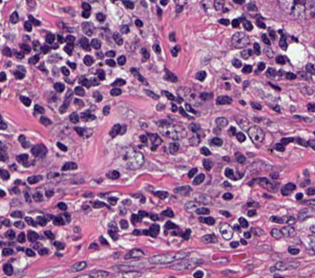nucleus: (160, 121, 185, 139), (248, 126, 264, 142), (232, 32, 249, 47), (128, 152, 143, 168), (219, 223, 233, 240), (256, 178, 275, 190), (131, 68, 146, 83), (148, 134, 161, 150), (31, 144, 46, 156), (174, 185, 191, 195), (298, 208, 312, 220), (148, 223, 159, 237), (281, 225, 295, 236), (201, 234, 217, 243), (195, 194, 210, 203), (165, 70, 177, 81), (179, 107, 191, 118), (193, 173, 204, 184), (216, 96, 231, 104), (110, 124, 120, 136), (199, 217, 214, 225), (270, 228, 282, 238), (80, 37, 89, 50), (162, 91, 175, 100), (184, 202, 197, 211), (144, 90, 158, 98), (62, 162, 76, 170), (27, 175, 41, 183), (242, 19, 252, 30), (216, 117, 227, 127), (168, 142, 178, 153), (235, 152, 245, 163), (113, 32, 122, 44), (283, 183, 295, 192), (161, 208, 173, 217), (279, 35, 286, 50), (81, 111, 94, 119), (29, 15, 39, 25), (185, 103, 195, 113), (108, 230, 118, 240), (203, 159, 212, 170), (154, 191, 168, 198), (195, 207, 209, 214), (112, 79, 124, 87), (107, 170, 119, 178), (165, 221, 177, 229), (280, 138, 293, 145), (65, 35, 74, 45), (241, 49, 251, 58), (79, 78, 89, 87), (74, 86, 84, 95), (69, 112, 78, 122), (56, 142, 66, 151), (225, 168, 234, 178), (131, 214, 141, 223), (285, 216, 295, 225), (239, 217, 248, 227), (28, 231, 37, 241), (257, 17, 265, 28), (83, 23, 91, 34), (262, 34, 270, 45), (211, 137, 222, 145), (53, 216, 64, 224), (294, 138, 306, 145), (92, 201, 106, 207), (270, 216, 282, 223), (91, 39, 100, 48), (196, 71, 205, 80), (190, 123, 199, 132), (236, 132, 245, 141), (188, 168, 197, 177), (37, 216, 46, 225), (46, 33, 54, 43), (171, 46, 179, 56), (84, 55, 92, 65), (54, 83, 64, 91), (40, 117, 50, 125), (200, 147, 210, 155), (33, 191, 41, 201), (182, 229, 190, 239), (54, 241, 64, 249), (253, 43, 260, 54), (141, 48, 148, 59), (269, 83, 280, 90), (214, 1, 222, 10), (96, 13, 105, 21), (64, 45, 72, 54), (29, 55, 38, 63), (276, 55, 284, 64), (232, 59, 241, 67), (266, 68, 275, 76), (93, 92, 101, 101), (74, 99, 83, 107), (34, 105, 43, 113), (74, 127, 83, 135), (275, 143, 284, 151), (57, 202, 66, 210), (119, 220, 128, 228), (44, 230, 53, 238), (123, 1, 133, 8), (118, 55, 125, 65), (306, 63, 313, 73), (110, 88, 120, 95), (200, 92, 210, 99), (251, 102, 261, 109), (82, 2, 90, 10), (248, 2, 256, 10), (120, 25, 128, 33), (61, 67, 69, 75), (306, 187, 314, 195), (99, 236, 107, 244), (33, 41, 40, 50), (153, 44, 160, 53), (106, 59, 115, 66), (242, 65, 251, 72), (97, 70, 104, 79), (286, 72, 295, 79), (89, 78, 98, 85), (60, 103, 67, 112), (307, 139, 314, 148), (223, 192, 232, 199), (231, 19, 238, 27), (41, 45, 48, 53), (307, 103, 314, 111), (45, 190, 53, 197), (108, 197, 116, 204), (219, 19, 228, 25), (169, 32, 175, 41), (138, 210, 147, 216), (220, 211, 230, 216), (82, 10, 89, 17), (135, 19, 142, 26), (269, 30, 275, 38), (67, 62, 75, 68), (258, 62, 264, 70), (103, 106, 109, 114), (140, 135, 146, 143), (150, 214, 158, 220), (230, 241, 238, 247), (105, 51, 114, 56), (58, 35, 64, 42), (119, 126, 125, 133), (229, 127, 235, 134), (223, 181, 230, 187), (295, 193, 302, 199), (248, 210, 255, 216), (270, 173, 278, 178), (64, 213, 69, 221), (133, 229, 141, 234), (157, 8, 161, 17), (244, 232, 250, 238), (233, 225, 240, 230), (176, 6, 182, 11), (142, 229, 148, 234), (172, 104, 176, 111), (234, 0, 243, 3), (274, 106, 279, 111), (241, 239, 246, 244), (96, 53, 102, 57), (243, 81, 247, 87), (160, 1, 167, 4), (47, 215, 51, 219), (311, 225, 313, 232), (236, 77, 239, 81), (240, 101, 244, 104)
